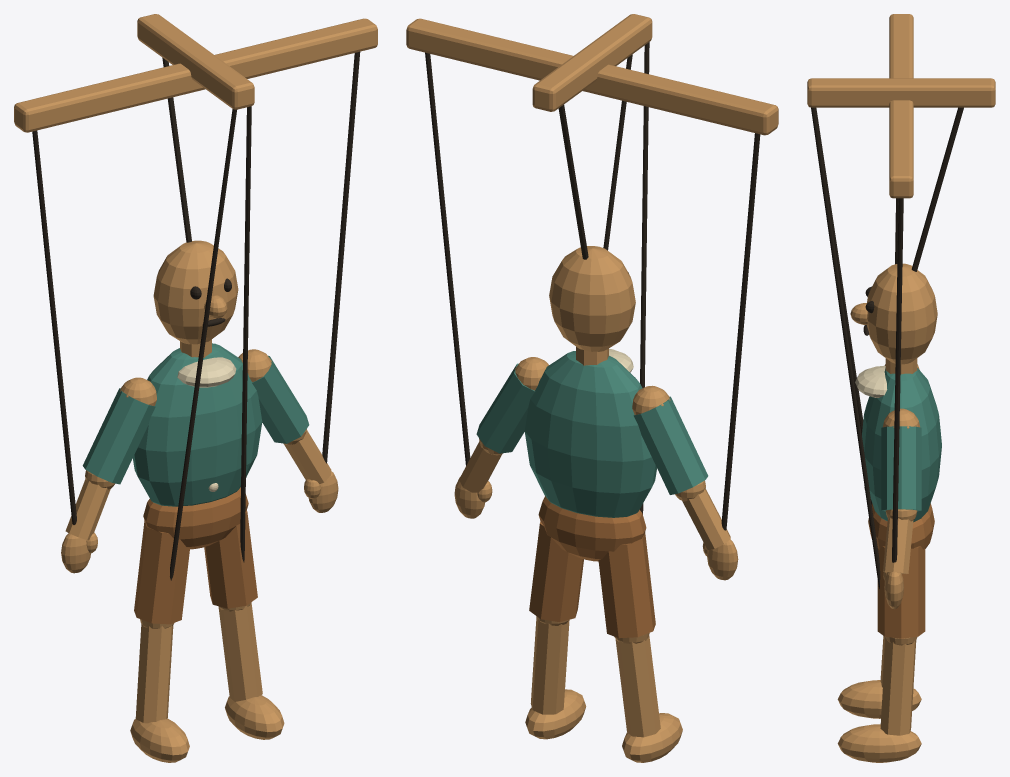
File: NEW_RECOVERY_105_LOD0.glb
3 views of the same model, side by side, from view 1: azimuth 30°, elevation 25°; view 2: azimuth 150°, elevation 25°; view 3: azimuth 270°, elevation 25° (orthographic). The views are drawn at different scales.
Visible parts, largest first — view 1: Marionette_static_LOD0; view 2: Marionette_static_LOD0; view 3: Marionette_static_LOD0.
Boxes of the visible parts, bbox=[...] form: Marionette_static_LOD0: bbox=[14, 14, 377, 762]; Marionette_static_LOD0: bbox=[406, 14, 778, 762]; Marionette_static_LOD0: bbox=[807, 14, 995, 762].
Bounding box in the file's own units: 1.35 × 2.5 × 0.65.
